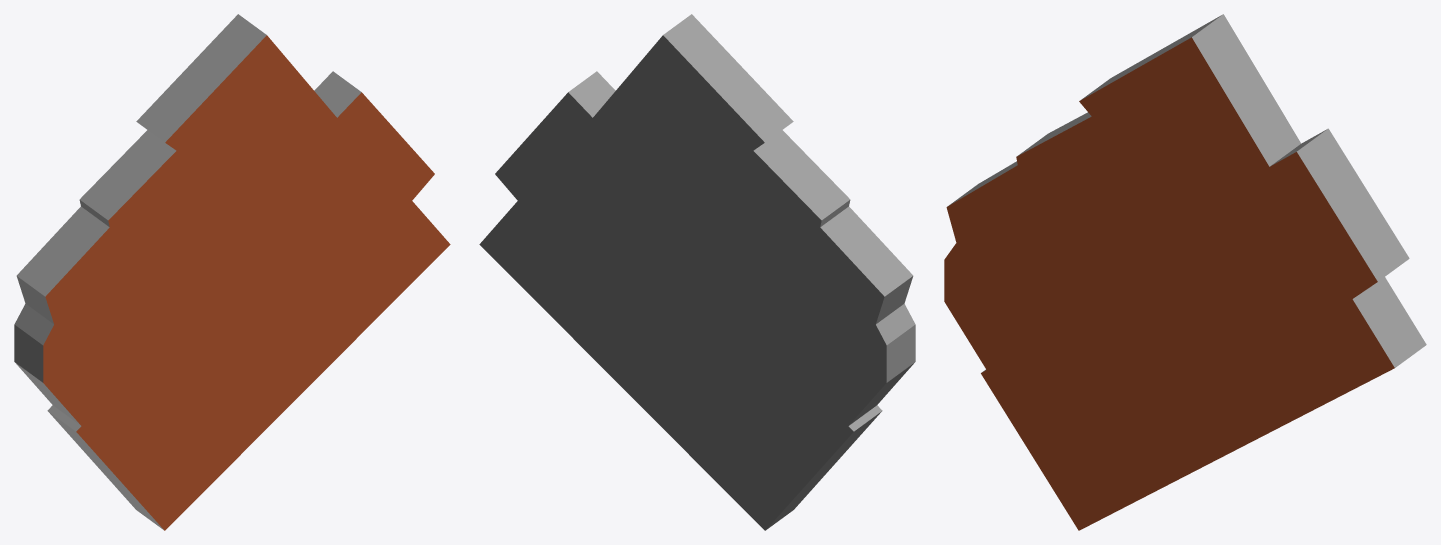
File: construction_4631_assumed_A_Casa_h6m.obj
3 views of the same model, side by side, from view 1: azimuth 30°, elevation 25°; view 2: azimuth 150°, elevation 25°; view 3: azimuth 330°, elevation 25° (orthographic). The views are drawn at different scales.
Parts seen in each view (by area): view 1: construction_4631_assumed_A_Casa; view 2: construction_4631_assumed_A_Casa; view 3: construction_4631_assumed_A_Casa.
Boxes of the visible parts, x1,y1,x2,y2 form: construction_4631_assumed_A_Casa: (14, 14, 450, 530); construction_4631_assumed_A_Casa: (479, 14, 915, 530); construction_4631_assumed_A_Casa: (944, 14, 1426, 530).
Size of the model in its own units: 49.04 by 54.18 by 6.
